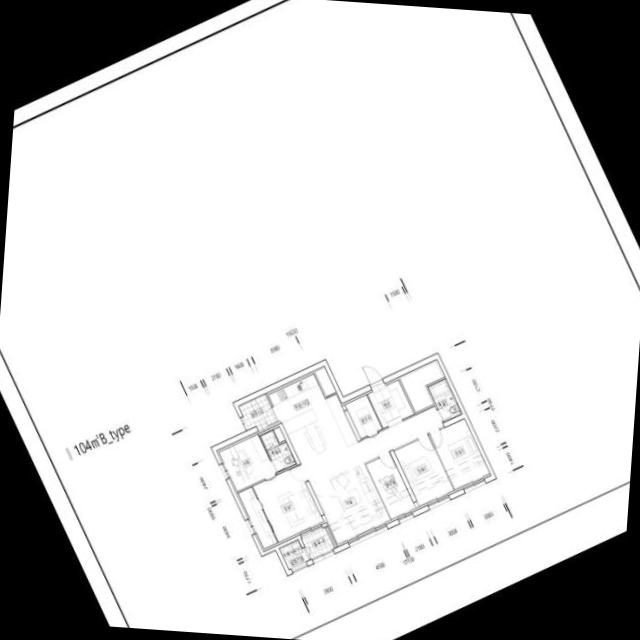background: (0, 0, 640, 640)
space_balconi: (239, 393, 279, 432), (301, 526, 336, 558)
space_bedroom: (252, 465, 324, 543), (394, 435, 454, 507), (430, 418, 490, 490)
space_front: (366, 377, 414, 427)
space_kitchen: (266, 371, 358, 468)
space_living_room: (303, 406, 444, 546)
space_other: (217, 432, 276, 491), (366, 453, 416, 520), (237, 487, 278, 551), (399, 359, 444, 412), (344, 392, 382, 438), (279, 539, 308, 569), (314, 366, 336, 396), (274, 426, 285, 442)
space_toilet: (260, 430, 296, 471), (427, 378, 461, 421)
